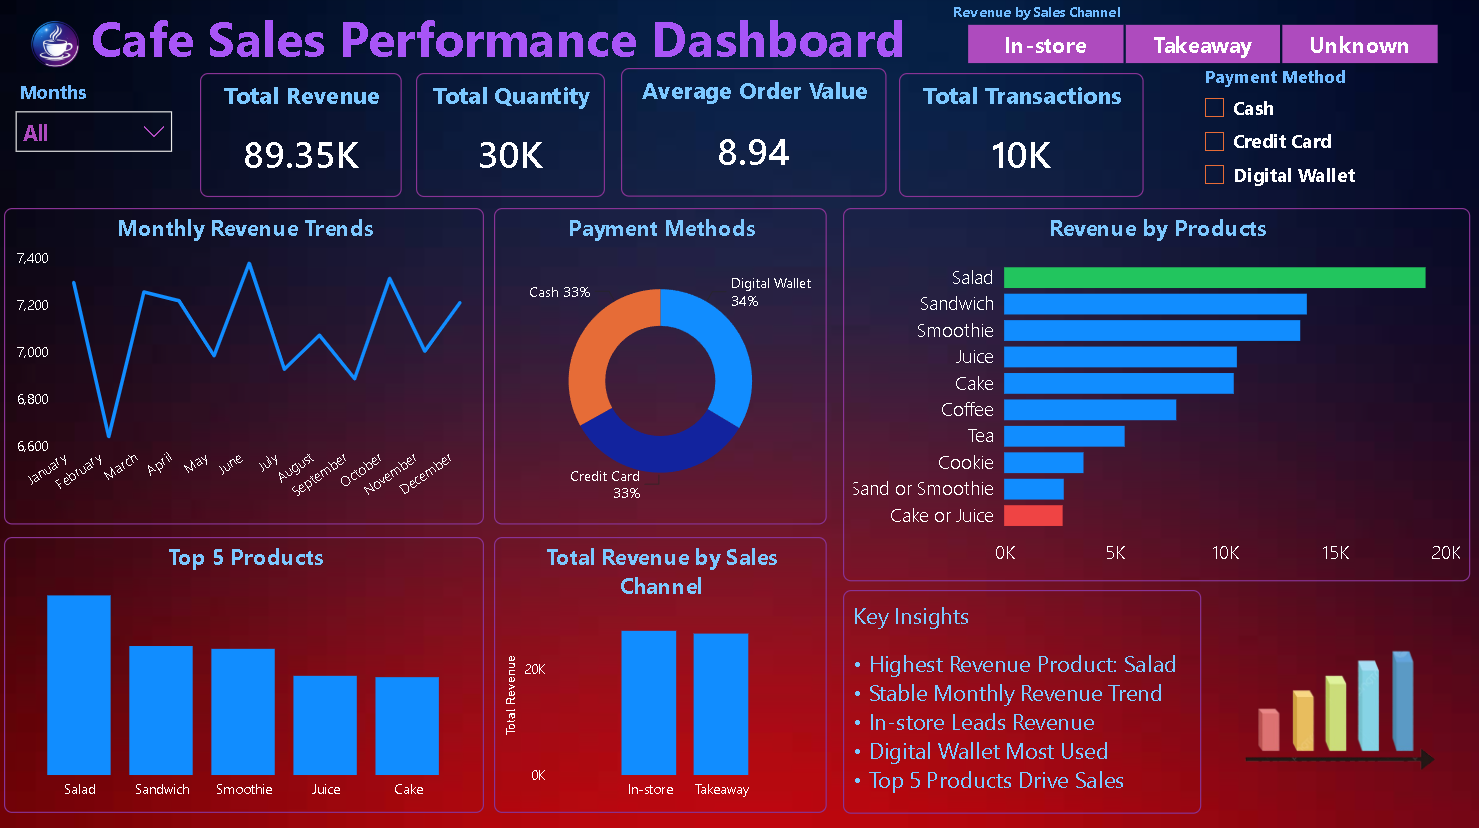

Layout of this report page (visuals, bound fields, positions):
{"tool":"powerbi","page":{"name":"Dashboard","canvas":[1280,720],"ordinal":0},"visuals":[{"type":"textbox","box":[0,0,790.8,85.6],"z":0},{"type":"cardVisual","title":"Total Revenue","fields":{"Data":["Cafe Sales.Total Revenue"]},"box":[175.1,65.2,174.1,107],"z":1000},{"type":"cardVisual","title":"Average Order Value","fields":{"Data":["Cafe Sales.AOV"]},"box":[537.9,61.3,228.6,110.9],"z":2000},{"type":"cardVisual","title":"Total Transactions","fields":{"Data":["Cafe Sales.Total Transactions"]},"box":[778.1,65.2,211.1,107],"z":3000},{"type":"cardVisual","title":"Total Quantity","fields":{"Data":["Cafe Sales.Total Quantity"]},"box":[361.8,65.2,163.4,107],"z":4000},{"type":"clusteredBarChart","title":" Revenue by Products","fields":{"Category":["Cafe Sales.Item"],"Y":["Cafe Sales.Total Revenue"]},"box":[729.7,182,540.8,321.7],"z":5000},{"type":"clusteredColumnChart","title":"Top 5 Products","fields":{"Category":["Cafe Sales.Item"],"Y":["Cafe Sales.Total Revenue"]},"box":[5.8,465.9,414.3,238.3],"z":6000},{"type":"donutChart","title":"Payment Methods","fields":{"Category":["Cafe Sales.Payment Method"],"Y":["Cafe Sales.Total Transactions"]},"box":[428.9,181.9,286.9,273.3],"z":7000},{"type":"columnChart","title":"Total Revenue by Sales Channel","fields":{"Category":["Cafe Sales.Location"],"Y":["Cafe Sales.Total Revenue"]},"box":[428.9,465.9,286.9,238.3],"z":8000},{"type":"slicer","fields":{"Values":["Cafe Sales.Months"]},"box":[5.8,65.2,154.7,107],"z":9000},{"type":"slicer","fields":{"Values":["Cafe Sales.Location"]},"box":[811.6,0,454.6,61.2],"z":10000},{"type":"slicer","fields":{"Values":["Cafe Sales.Payment Method"]},"box":[1029,53.5,210.5,131.1],"z":11000},{"type":"lineChart","title":"Monthly Revenue Trends","fields":{"Category":["Cafe Sales.Months"],"Y":["Cafe Sales.Total Revenue"]},"box":[5.8,181.9,414.3,273.3],"z":12000},{"type":"image","box":[0,3.9,100.2,76.8],"z":13000},{"type":"textbox","box":[729.5,511.6,309.3,192.6],"z":14000},{"type":"image","box":[1037.8,511.6,242.2,208.1],"z":15000}]}

Visuals, with their boxes in screenshot pixels (x1, y1, x2, y2), scaled from the page's 1280x720 canvas onto the 1479x828 screenshot:
textbox: <bbox>0, 0, 914, 98</bbox>
"Total Revenue" cardVisual: <bbox>202, 75, 403, 198</bbox>
"Average Order Value" cardVisual: <bbox>622, 70, 886, 198</bbox>
"Total Transactions" cardVisual: <bbox>899, 75, 1143, 198</bbox>
"Total Quantity" cardVisual: <bbox>418, 75, 607, 198</bbox>
" Revenue by Products" clusteredBarChart: <bbox>843, 209, 1468, 579</bbox>
"Top 5 Products" clusteredColumnChart: <bbox>7, 536, 485, 810</bbox>
"Payment Methods" donutChart: <bbox>496, 209, 827, 523</bbox>
"Total Revenue by Sales Channel" columnChart: <bbox>496, 536, 827, 810</bbox>
slicer - Cafe Sales.Months: <bbox>7, 75, 185, 198</bbox>
slicer - Cafe Sales.Location: <bbox>938, 0, 1463, 70</bbox>
slicer - Cafe Sales.Payment Method: <bbox>1189, 62, 1432, 212</bbox>
"Monthly Revenue Trends" lineChart: <bbox>7, 209, 485, 523</bbox>
image: <bbox>0, 4, 116, 93</bbox>
textbox: <bbox>843, 588, 1200, 810</bbox>
image: <bbox>1199, 588, 1478, 827</bbox>
